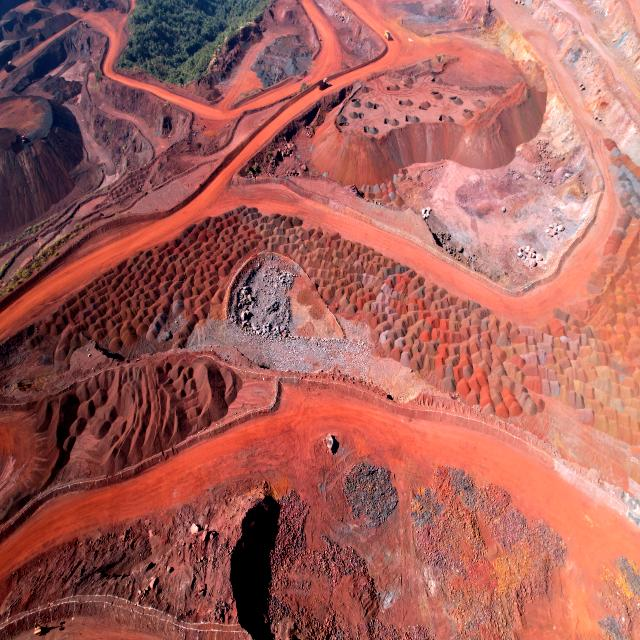Blast rig: (485, 0, 492, 13)
Dumper truck: (321, 77, 332, 89), (3, 60, 13, 72), (384, 30, 392, 40)
